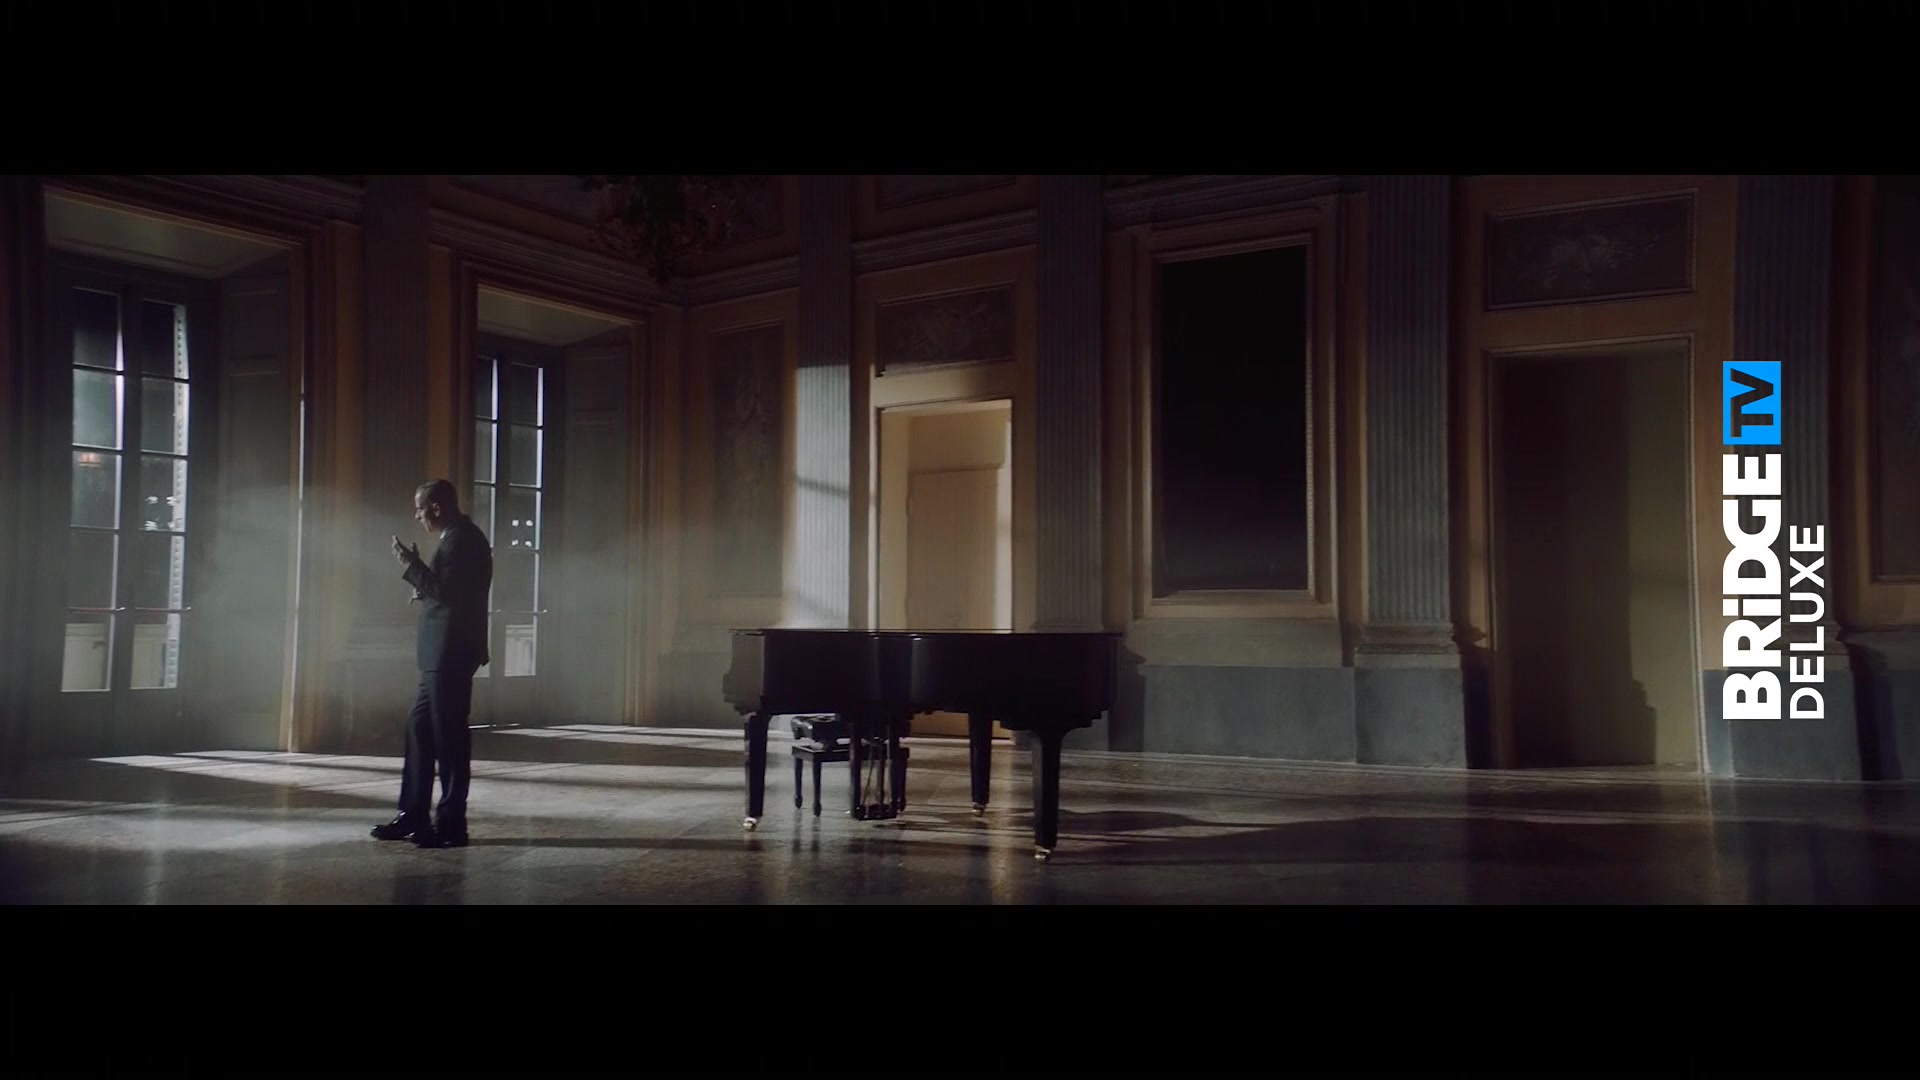Bridge_TV_Deluxe: (1716, 353, 1834, 727)
